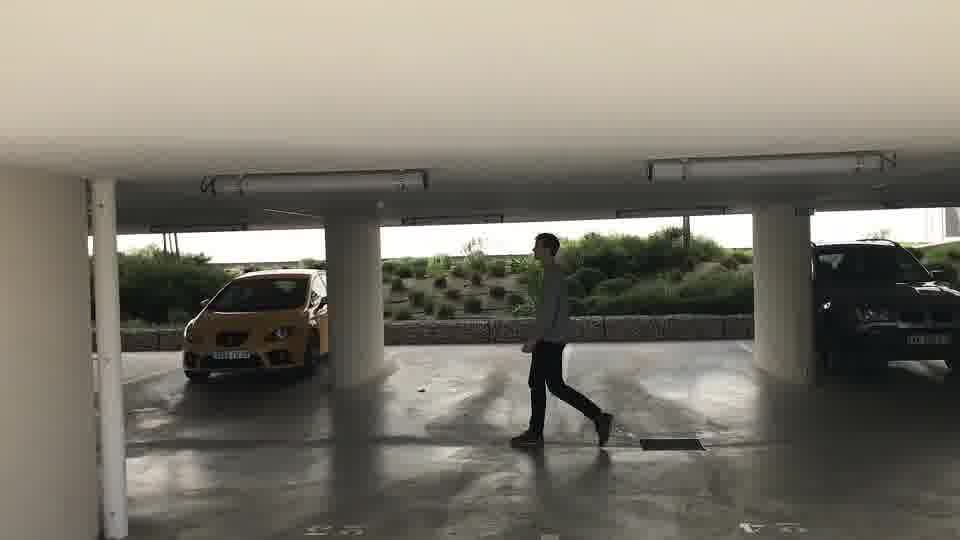jugador: (495, 227, 619, 461)
